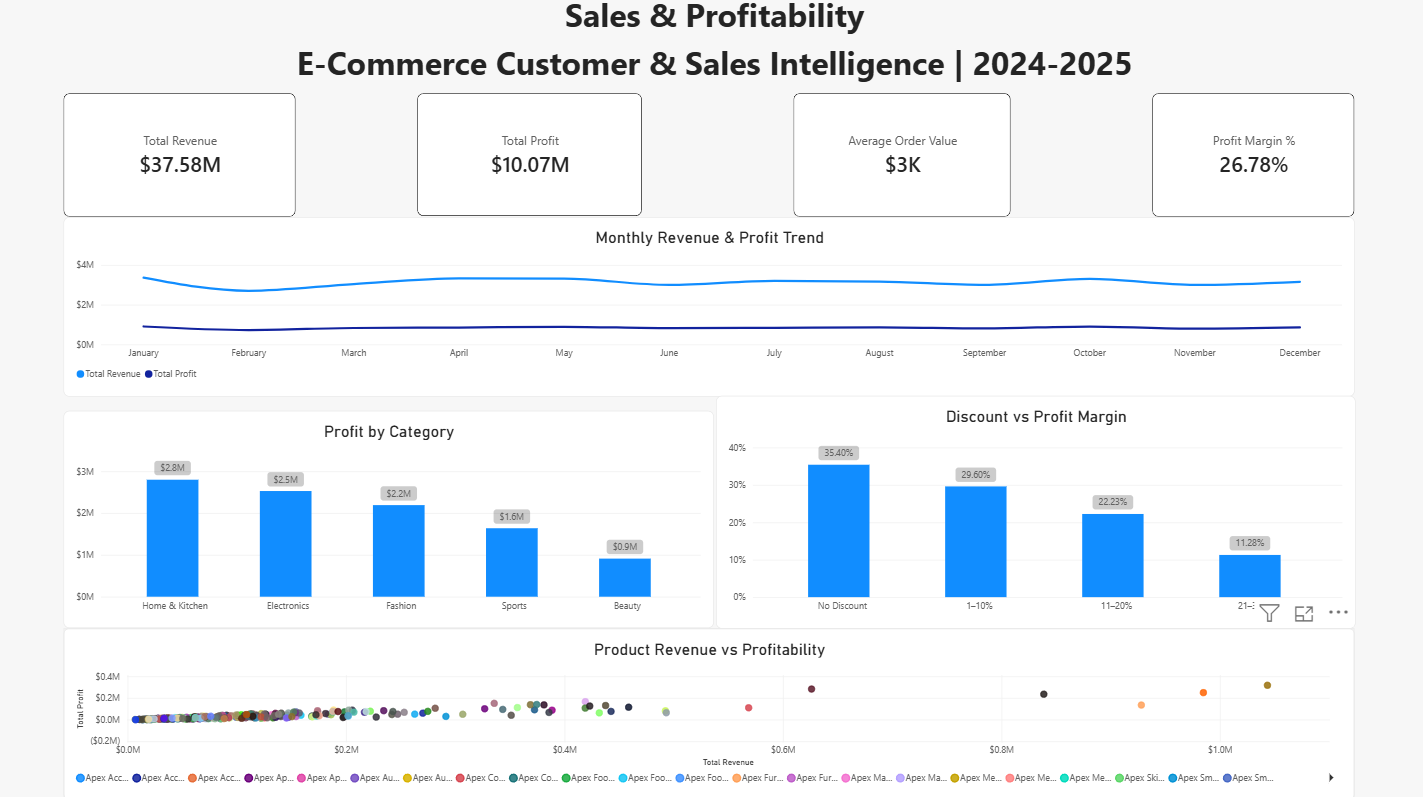

The dashboard page shown, as its layout file describes it:
{"tool":"powerbi","page":{"name":"Sales & Profitability","canvas":[1920,1080],"ordinal":1},"visuals":[{"type":"textbox","box":[0,65,1920,70],"z":0},{"type":"textbox","box":[0,0,1920,65],"z":1000},{"type":"cardVisual","fields":{"Data":["orders.Total Revenue"]},"box":[90,135,310,165],"z":2000},{"type":"cardVisual","fields":{"Data":["orders.Total Profit"]},"box":[561.9,135.8,300.5,164.7],"z":3000},{"type":"cardVisual","fields":{"Data":["orders.Average Order Value"]},"box":[1065,135,290,165],"z":4000},{"type":"cardVisual","fields":{"Data":["orders.Profit Margin %"]},"box":[1545,135,270,165],"z":5000},{"type":"lineChart","title":"Monthly Revenue & Profit Trend","fields":{"Category":["orders.order_date.Variation.Date Hierarchy.Year","orders.order_date.Variation.Date Hierarchy.Month"],"Y":["orders.Total Revenue","orders.Total Profit"]},"box":[90,300,1725,240],"z":6000},{"type":"clusteredColumnChart","title":"Profit by Category","fields":{"Category":["products.category"],"Y":["orders.Total Profit"]},"box":[90.6,559.9,868.6,290.2],"z":6001},{"type":"clusteredColumnChart","title":"Discount vs Profit Margin","fields":{"Category":["orders.Discount Bucket"],"Y":["orders.Profit Margin %"]},"box":[961.2,539.3,854.2,310.8],"z":6002},{"type":"scatterChart","title":"Product Revenue vs Profitability","fields":{"Series":["products.product_name"],"X":["orders.Total Revenue"],"Y":["orders.Total Profit"]},"box":[90.6,850.1,1724.9,230.5],"z":6003}]}

Visuals, with their boxes in screenshot pixels (x1, y1, x2, y2), scaled from the page's 1920x1080 canvas onto the 1423x797 screenshot:
textbox: rect(0, 48, 1422, 100)
textbox: rect(0, 0, 1422, 48)
cardVisual - orders.Total Revenue: rect(67, 100, 296, 221)
cardVisual - orders.Total Profit: rect(416, 100, 639, 222)
cardVisual - orders.Average Order Value: rect(789, 100, 1004, 221)
cardVisual - orders.Profit Margin %: rect(1145, 100, 1345, 221)
"Monthly Revenue & Profit Trend" lineChart: rect(67, 221, 1345, 398)
"Profit by Category" clusteredColumnChart: rect(67, 413, 711, 627)
"Discount vs Profit Margin" clusteredColumnChart: rect(712, 398, 1345, 627)
"Product Revenue vs Profitability" scatterChart: rect(67, 627, 1346, 796)
